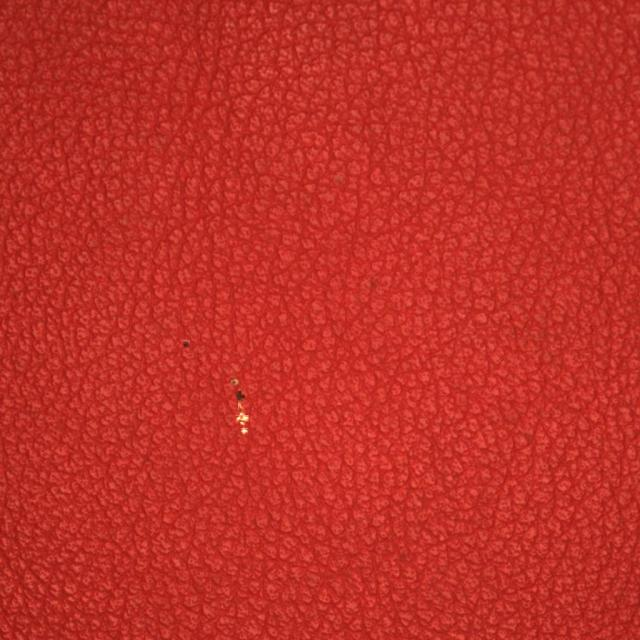Scratch: (131, 329, 348, 506)
